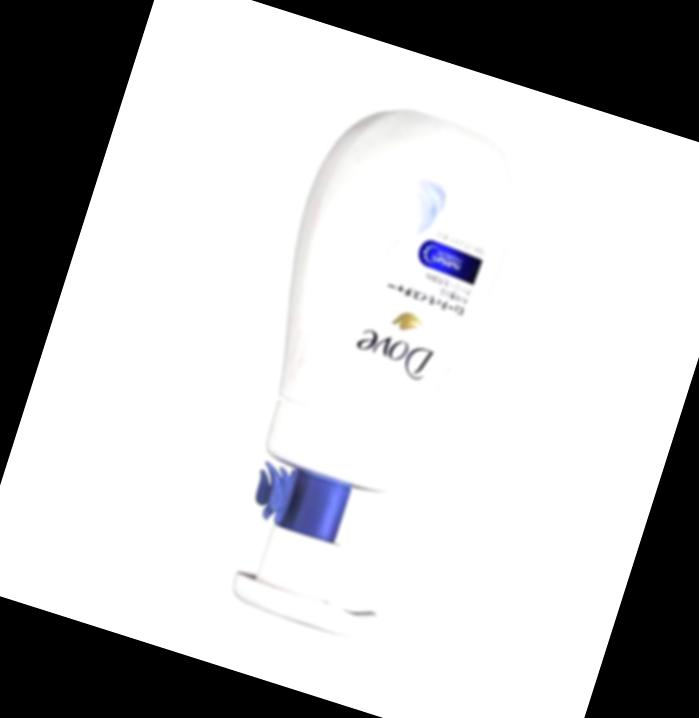cosmetic: (177, 80, 543, 653)
